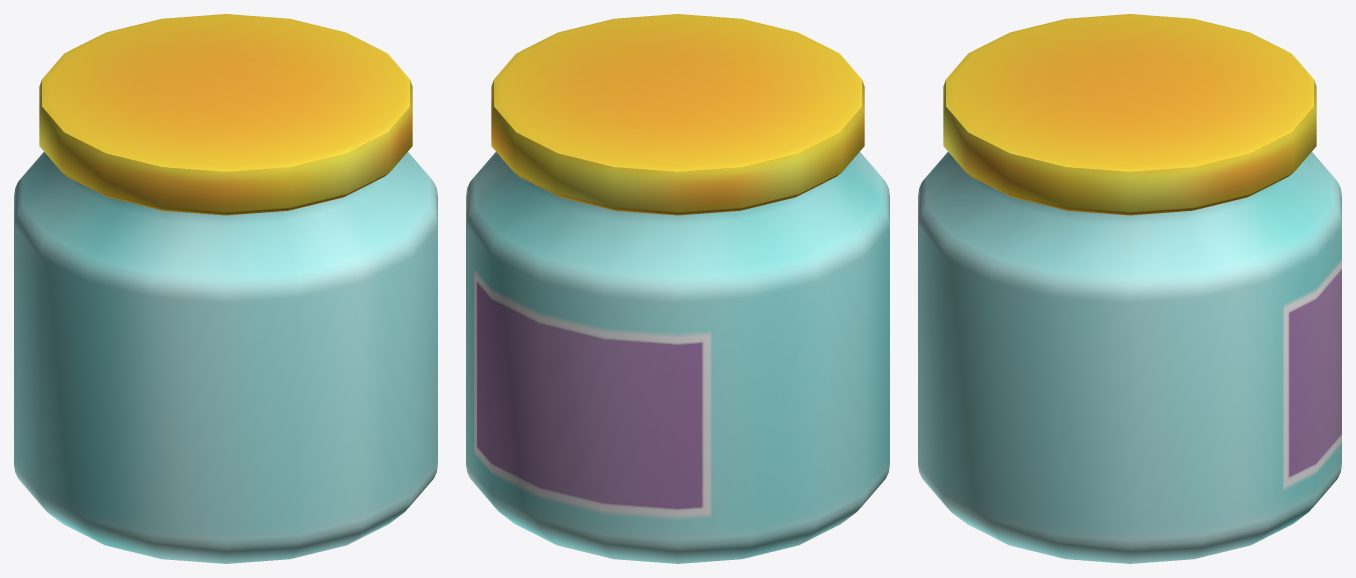
File: ENV2010071.fbx
3 renders of one model, left to right at view 1: azimuth 30°, elevation 25°; view 2: azimuth 150°, elevation 25°; view 3: azimuth 270°, elevation 25°, orthographic.
Visible parts, largest first — view 1: smENV2010071; view 2: smENV2010071; view 3: smENV2010071.
Part boxes in pixels (x1,y1,x2,y2): smENV2010071: (14,14,437,563); smENV2010071: (466,14,889,563); smENV2010071: (918,14,1341,563).
Bounding box in the file's own units: 10.33 × 10.44 × 10.17.
1 material, 1 textured.
